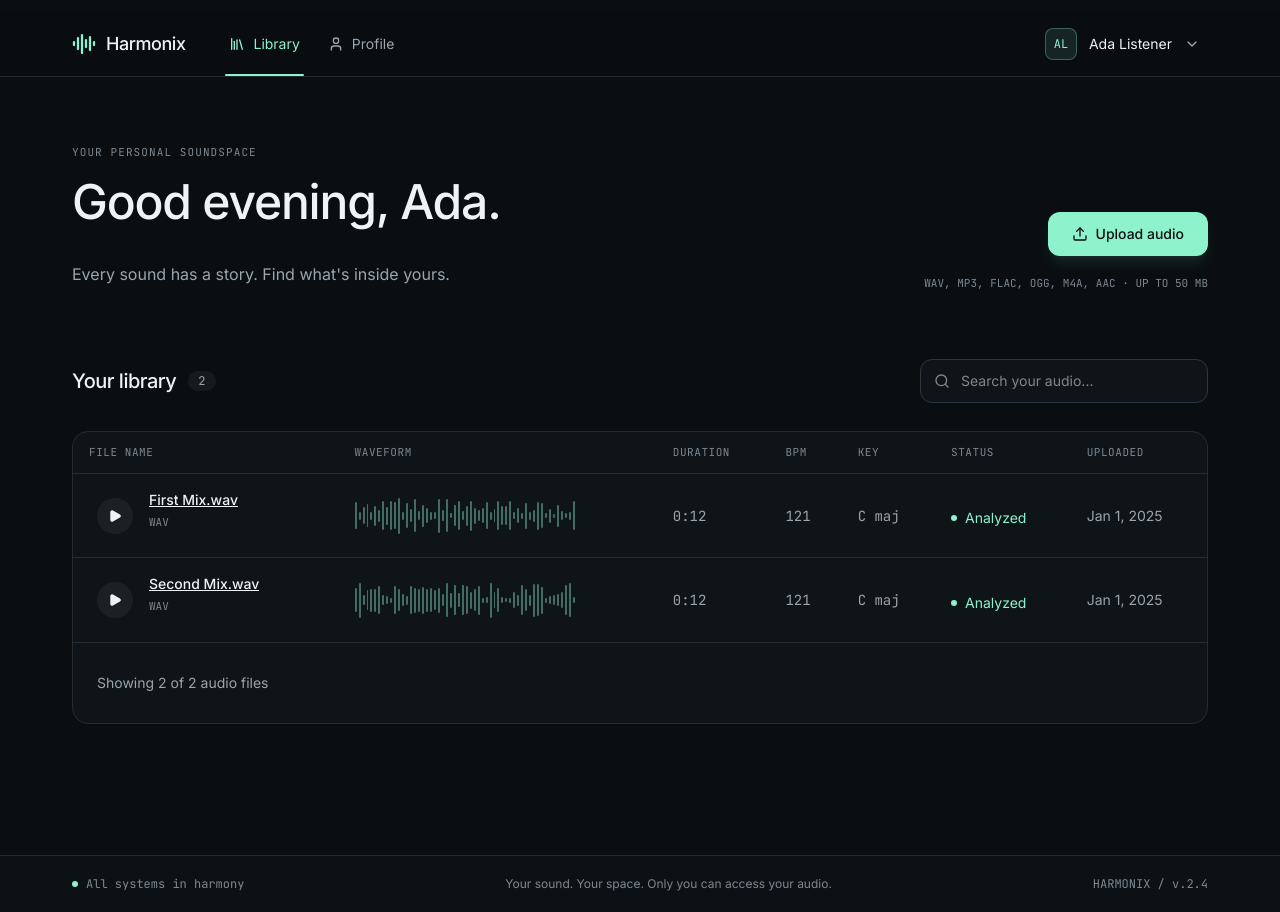
Test: HomePage › filters library items case-insensitively and reports no matches
The image size is (1280, 912).
Expected: the link "First Mix.wav" is shown, [149,490,238,510]
Type "SECOND" into the search field labelled "Search your audio".
click(1064, 381); type("SECOND")  # box [920,359,1208,403]
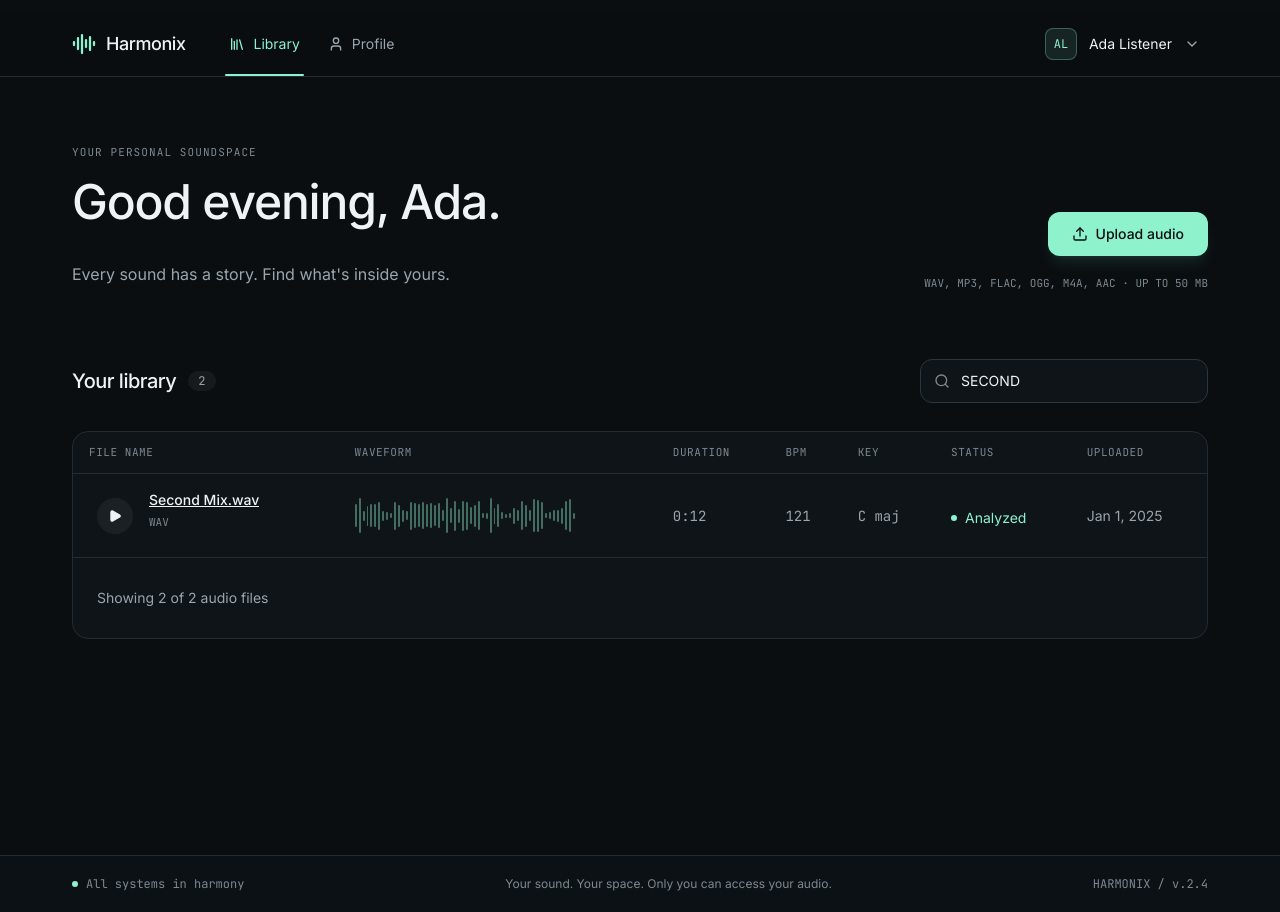
Expected: the link "Second Mix.wav" is shown, [149,490,259,510]
Expected: the link "First Mix.wav" is gone
Replace the text in the search field named "Search your audio" with "missing" at (1064, 381), box [920,359,1208,403]
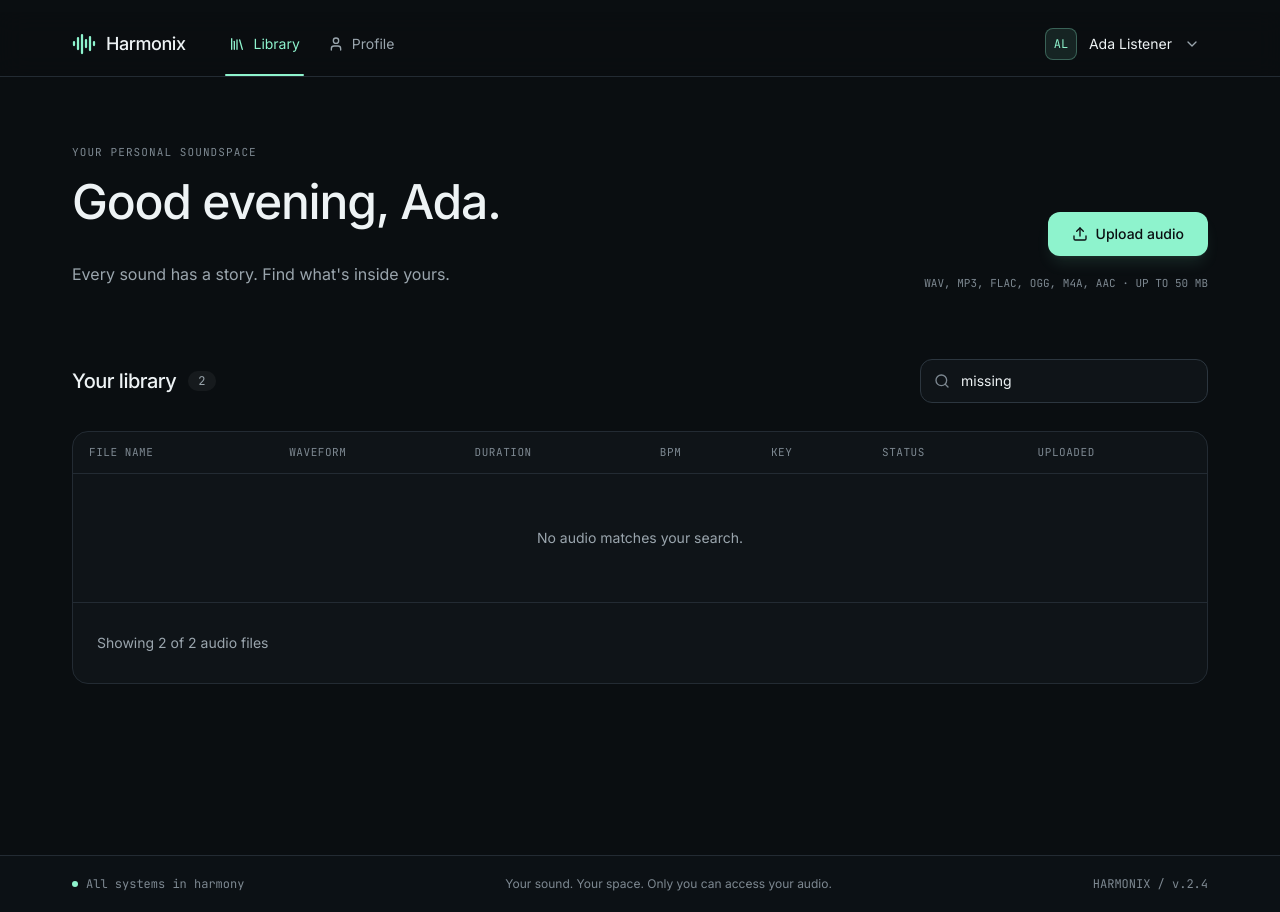
Expected: the text "No audio matches your search." is shown, [537,529,743,546]
